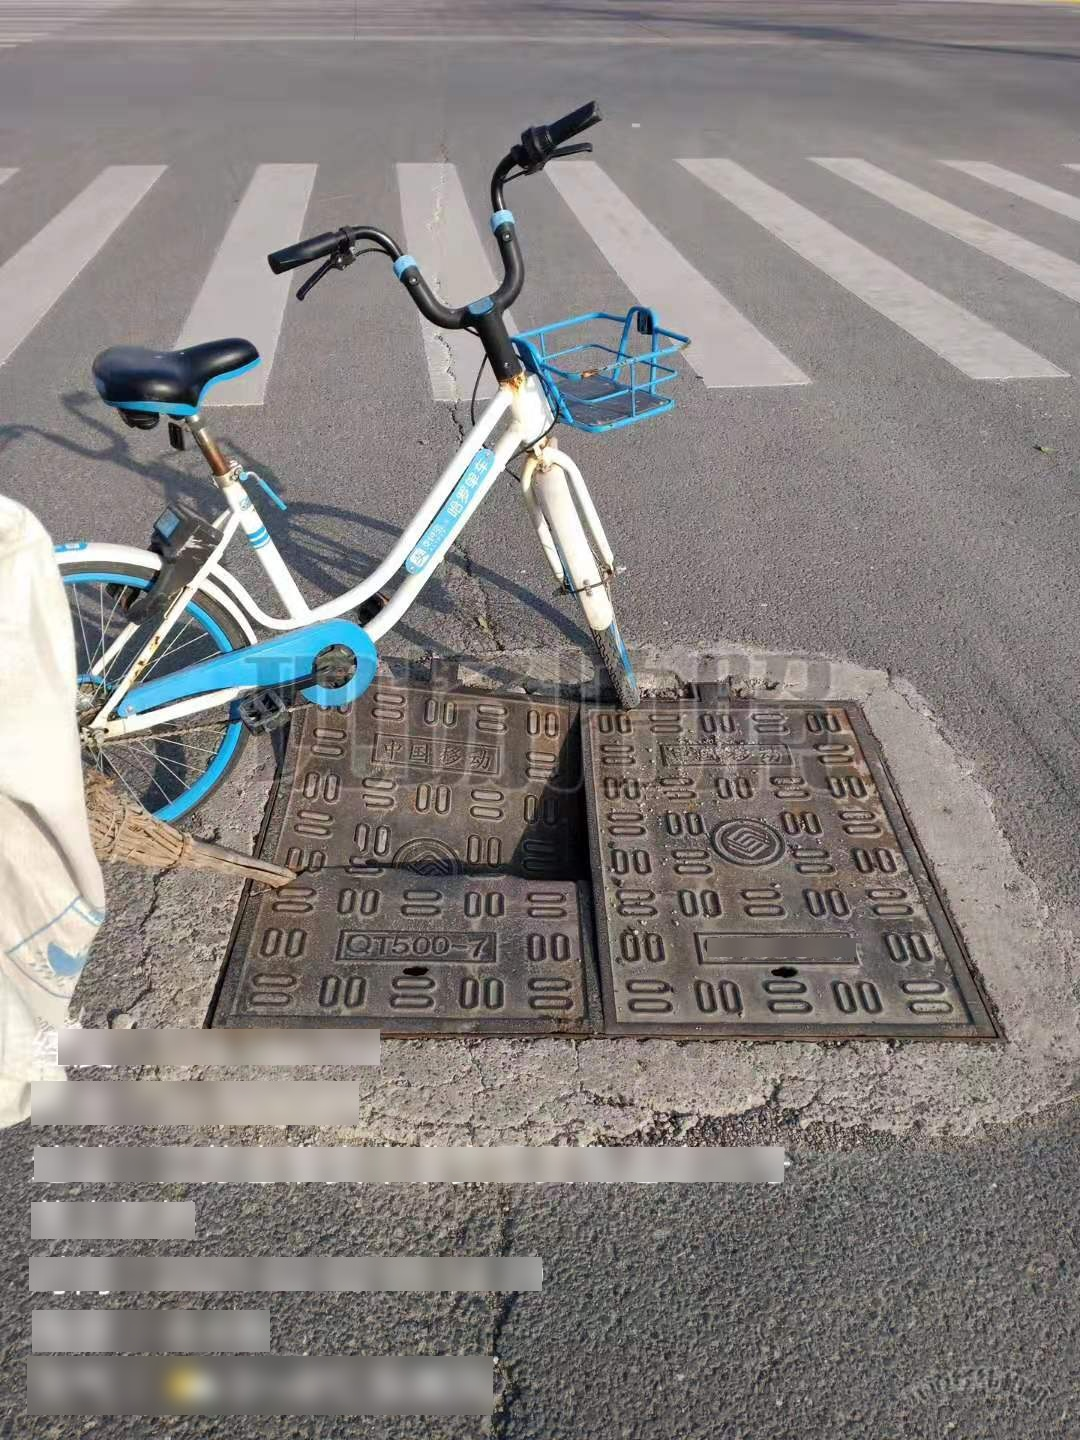broke: (196, 668, 1009, 1047)
